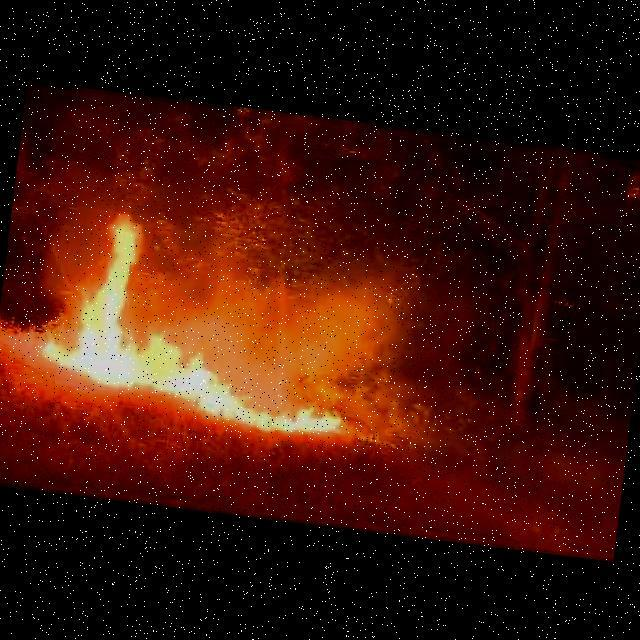Fire: (29, 199, 367, 450)
